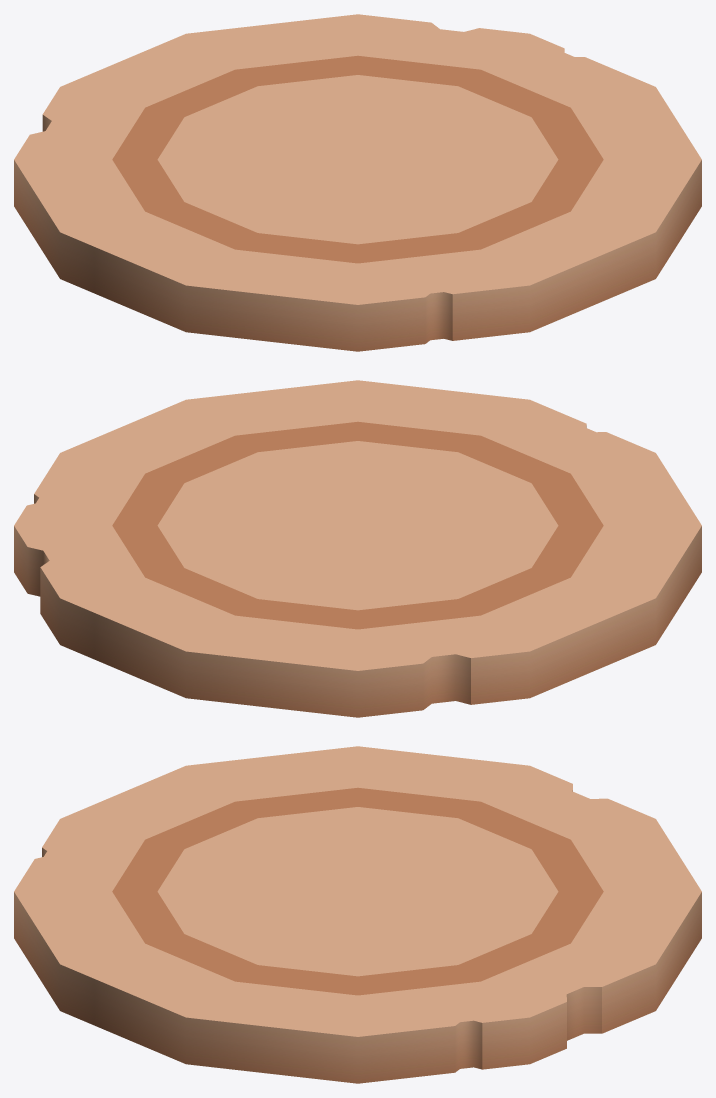
Rendered from cutting-board-round.glb.
3 renders of one model, top to bottom at view 1: azimuth 30°, elevation 25°; view 2: azimuth 150°, elevation 25°; view 3: azimuth 270°, elevation 25°, orthographic.
Visible parts, largest first — view 1: cutting-board-round; view 2: cutting-board-round; view 3: cutting-board-round.
Boxes of the visible parts, x1,y1,x2,y2 form: cutting-board-round: (14,14,701,351); cutting-board-round: (14,380,701,717); cutting-board-round: (14,746,701,1083).
Size of the model in its own units: 0.8 by 0.06 by 0.8.
Materials: 1 (1 with a texture image).
